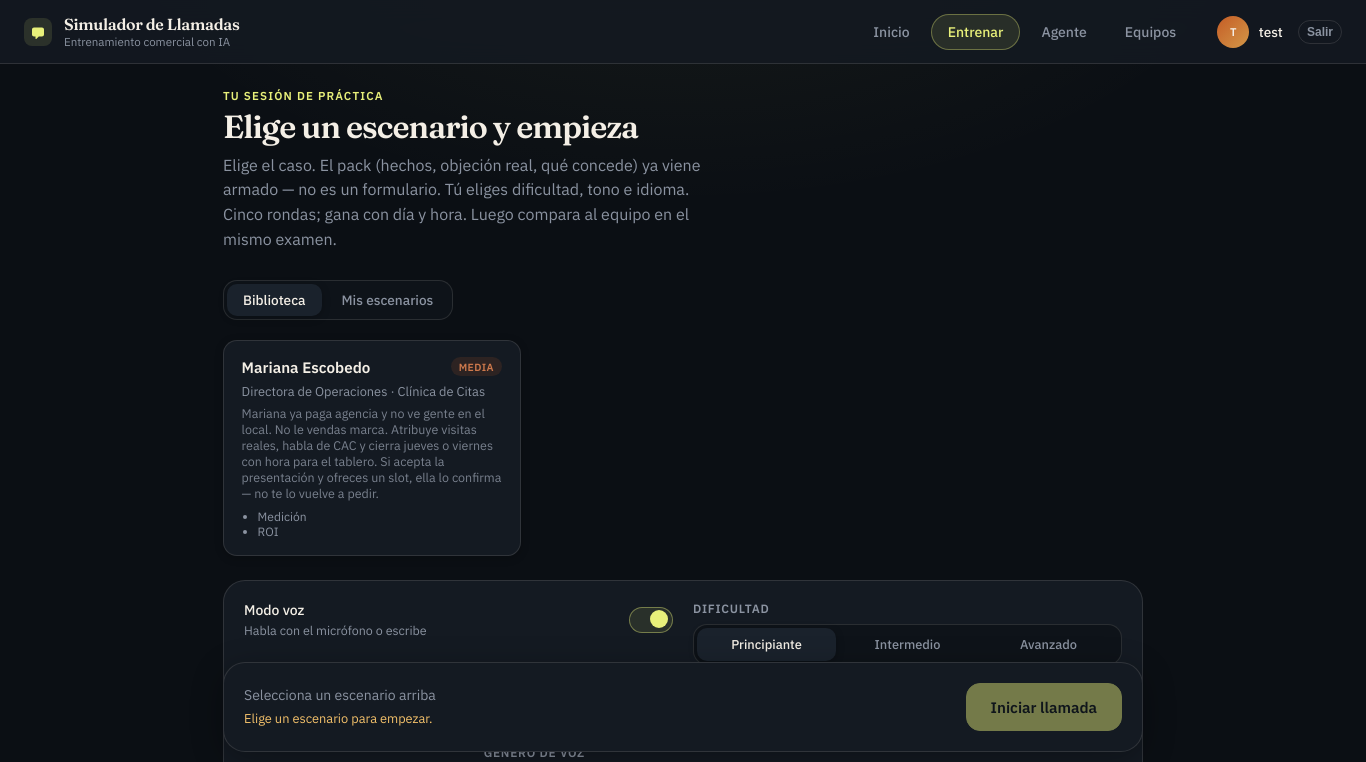
session start failure › shows an error toast and stays on setup when createSession fails
The width and height of the screenshot is (1366, 762).
Click the button "Mariana Escobedo". click: (372, 448)
box: [223, 340, 521, 556]
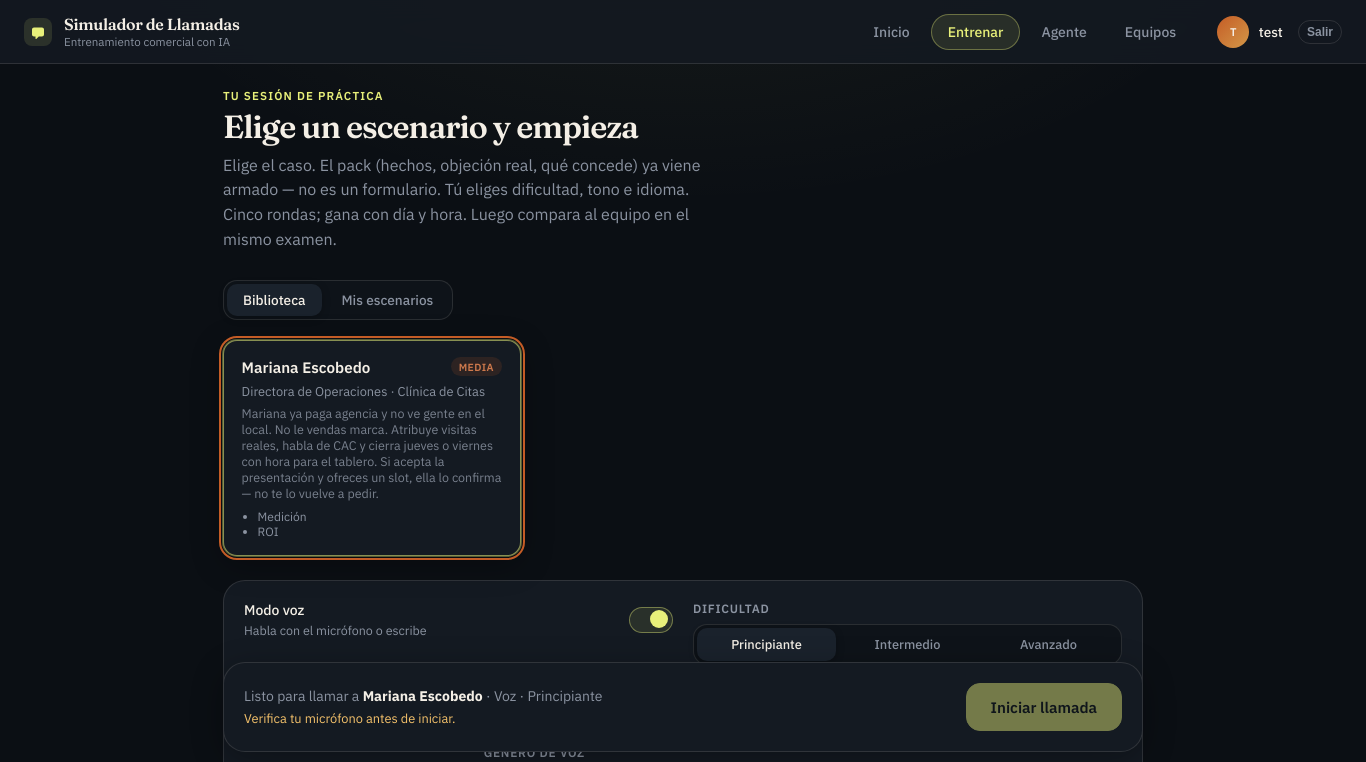
Click the switch labelled "Modo voz". click: (274, 610)
box: [244, 601, 673, 638]
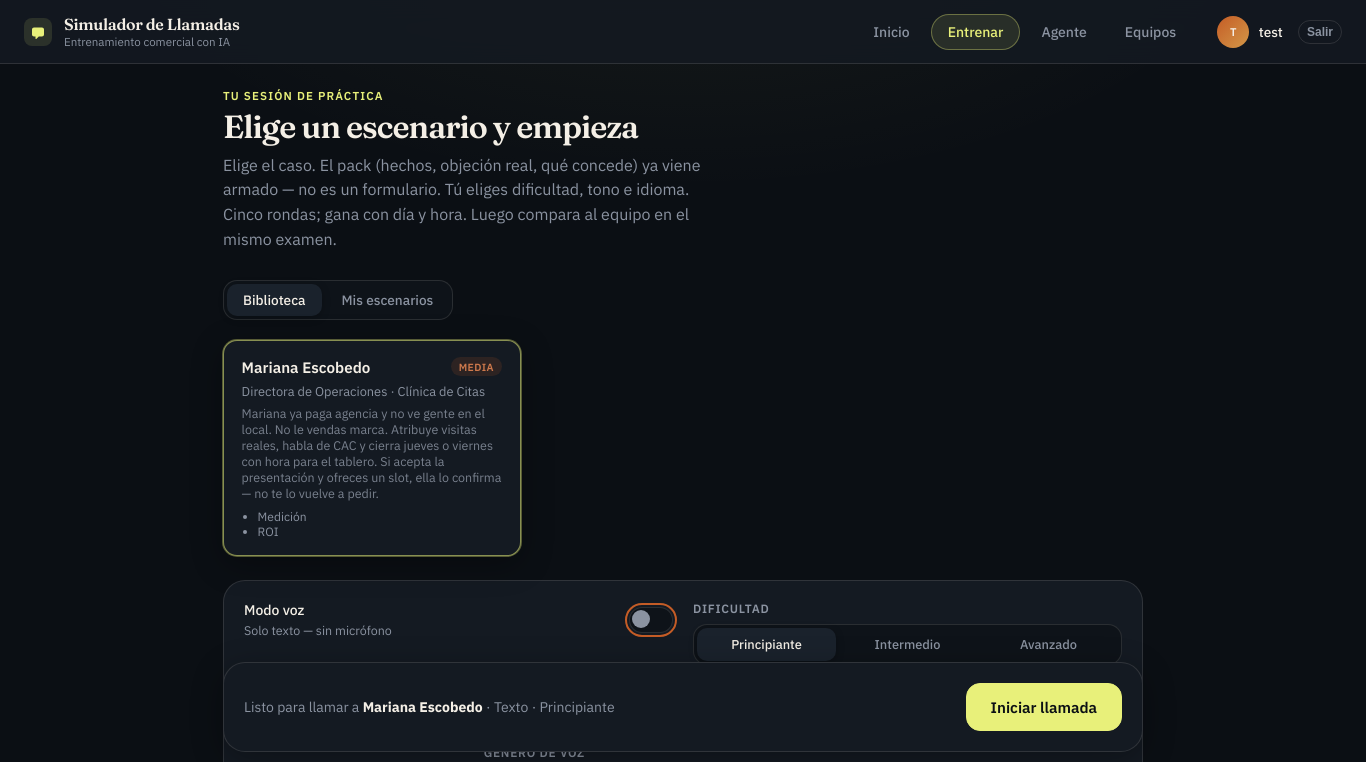
Click the button "Iniciar llamada". click: (1044, 707)
box: [966, 683, 1122, 731]
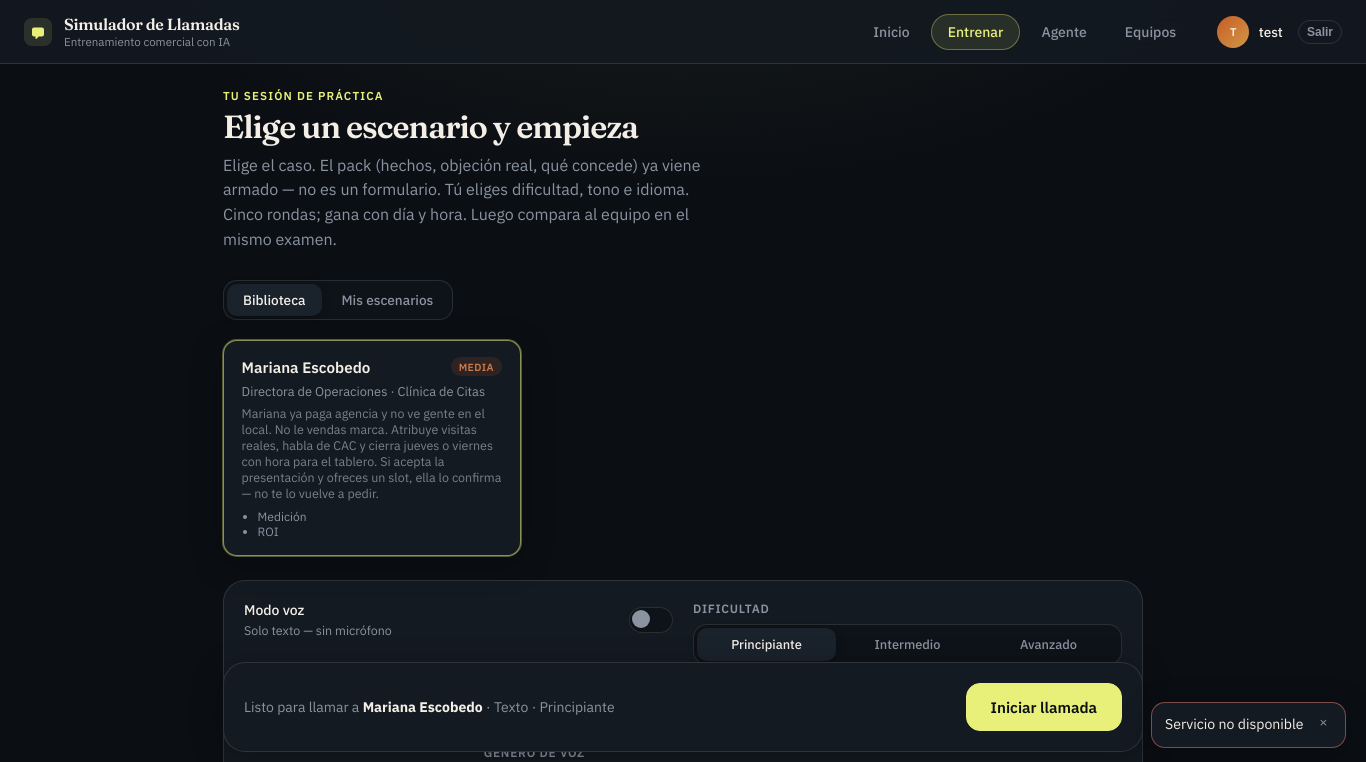
Expected: the heading "Elige un escenario y empieza" is shown, [223, 107, 638, 146]
Expected: the text "Servicio no disponible" is shown, [1165, 715, 1304, 735]
